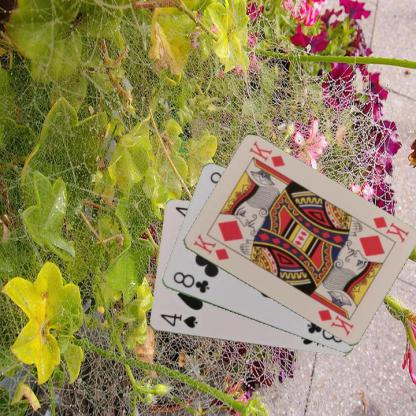4s: (157, 311, 199, 330)
8c: (170, 269, 211, 295)
Kd: (190, 231, 230, 262), (370, 214, 410, 244)
